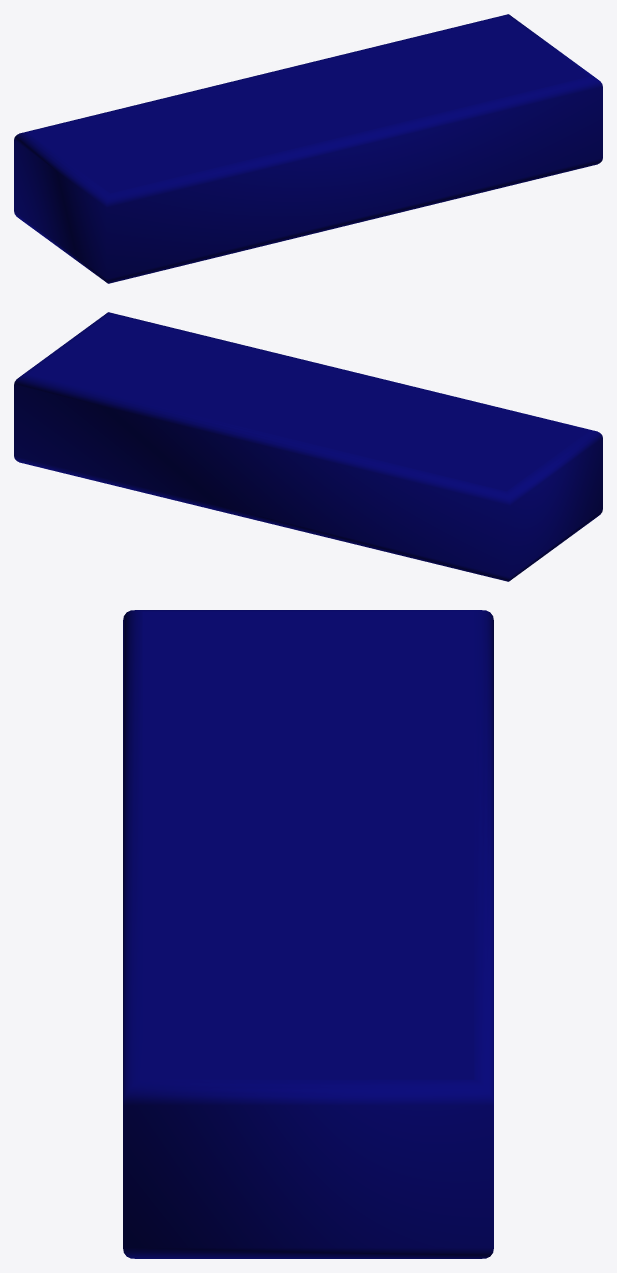
File: Paddle-1.dae
3 renders of one model, top to bottom at view 1: azimuth 30°, elevation 25°; view 2: azimuth 150°, elevation 25°; view 3: azimuth 270°, elevation 25°, orthographic. The views are drawn at different scales.
Parts seen in each view (by area): view 1: Paddle; view 2: Paddle; view 3: Paddle.
Boxes of the visible parts, x1,y1,x2,y2 form: Paddle: (14, 14, 602, 283); Paddle: (14, 312, 602, 581); Paddle: (123, 610, 493, 1258).
Bounding box in the file's own units: 0.2922 × 0.05 × 0.0947.
